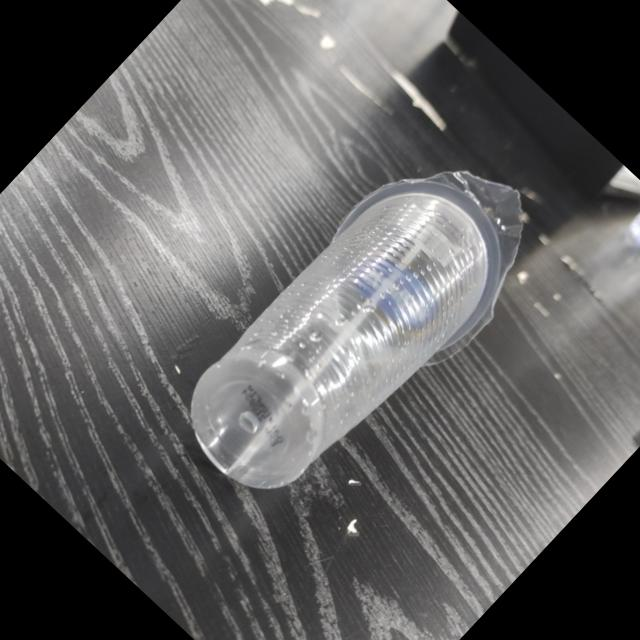GelasPlastik: (158, 114, 569, 536)
